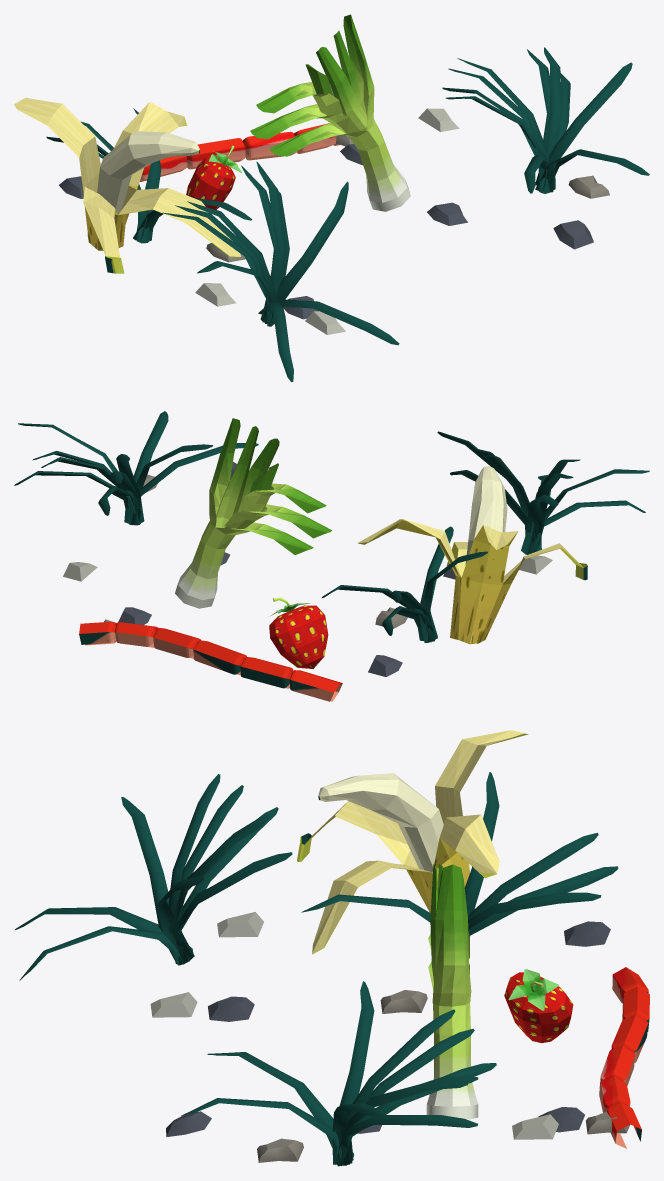
Rendered from D_Biomes_01.FBX.
3 views of the same model, one above another, from view 1: azimuth 30°, elevation 25°; view 2: azimuth 150°, elevation 25°; view 3: azimuth 270°, elevation 25° (orthographic). The views are drawn at different scales.
Parts seen in each view (by area): view 1: banane, Object003, Plane007, Plane012, Plane010, Plane011, saucisse_obstacle, fraise, Plane009, Box006, Box007, Box005 (+3 smaller); view 2: Object003, banane, saucisse_obstacle, fraise, Plane009, Plane011, Plane012, Plane010, Plane007, Box011, Box008, Box010; view 3: banane, Object003, Plane009, Plane012, Plane007, Plane011, Plane010, saucisse_obstacle, fraise, Box011, Box002, Box001 (+6 smaller).
Boxes of the visible parts, x1,y1,x2,y2 form: banane: [14, 97, 240, 273]; Object003: [250, 14, 410, 211]; Plane007: [187, 161, 348, 381]; Plane012: [457, 47, 632, 193]; Plane010: [162, 165, 399, 345]; Plane011: [442, 49, 649, 193]; saucisse_obstacle: [140, 123, 340, 181]; fraise: [186, 145, 242, 209]; Plane009: [46, 108, 252, 243]; Box006: [553, 220, 593, 249]; Box007: [427, 202, 467, 225]; Box005: [568, 175, 609, 198]; Object003: [175, 418, 331, 608]; banane: [358, 466, 587, 644]; saucisse_obstacle: [79, 621, 342, 701]; fraise: [269, 597, 328, 668]; Plane009: [321, 526, 487, 642]; Plane011: [41, 411, 212, 524]; Plane012: [14, 423, 258, 525]; Plane010: [486, 454, 649, 553]; Plane007: [437, 431, 645, 554]; Box011: [368, 655, 402, 676]; Box008: [63, 562, 97, 581]; Box010: [118, 607, 151, 624]; banane: [297, 730, 528, 954]; Object003: [426, 864, 478, 1119]; Plane009: [301, 772, 618, 935]; Plane012: [207, 1009, 477, 1166]; Plane007: [15, 774, 292, 965]; Plane011: [181, 981, 496, 1166]; Plane010: [19, 785, 278, 980]; saucisse_obstacle: [599, 967, 649, 1148]; fraise: [504, 969, 573, 1043]; Box011: [564, 921, 610, 946]; Box002: [208, 996, 254, 1021]; Box001: [150, 992, 197, 1017].
Size of the model in its own units: 830 by 286 by 686.
